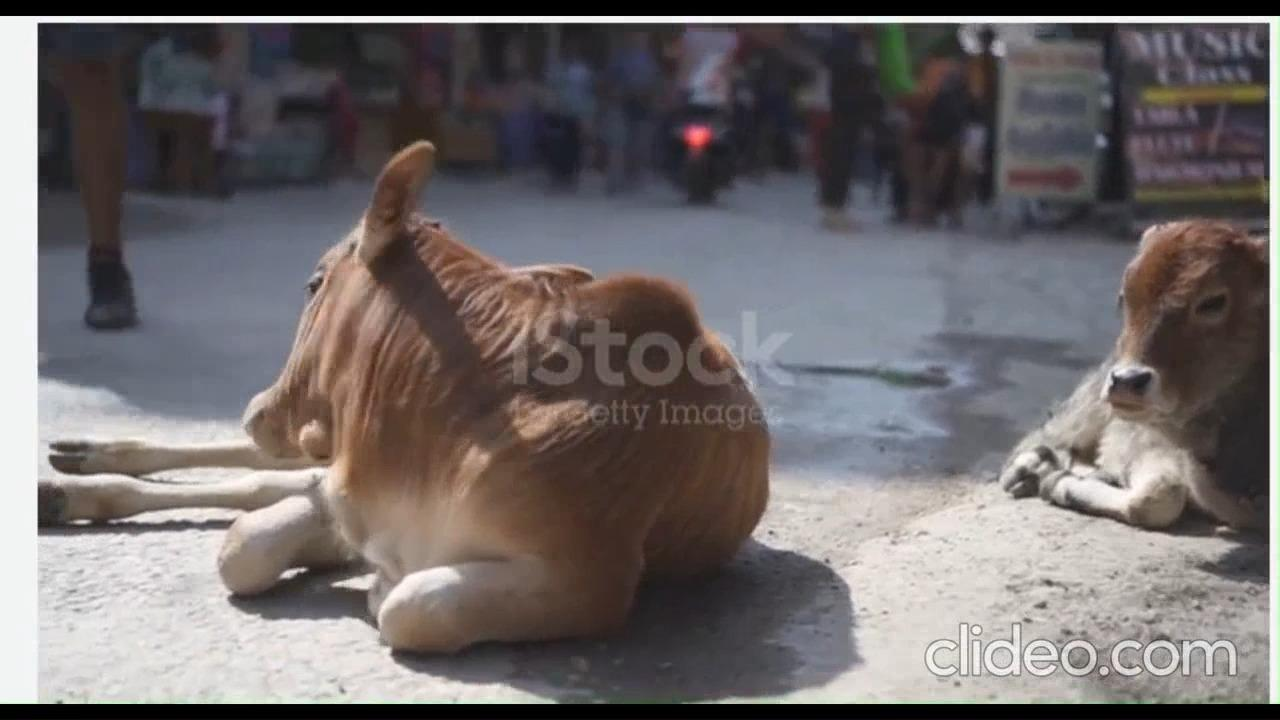Cow: (36, 132, 781, 634), (1006, 208, 1267, 537)
